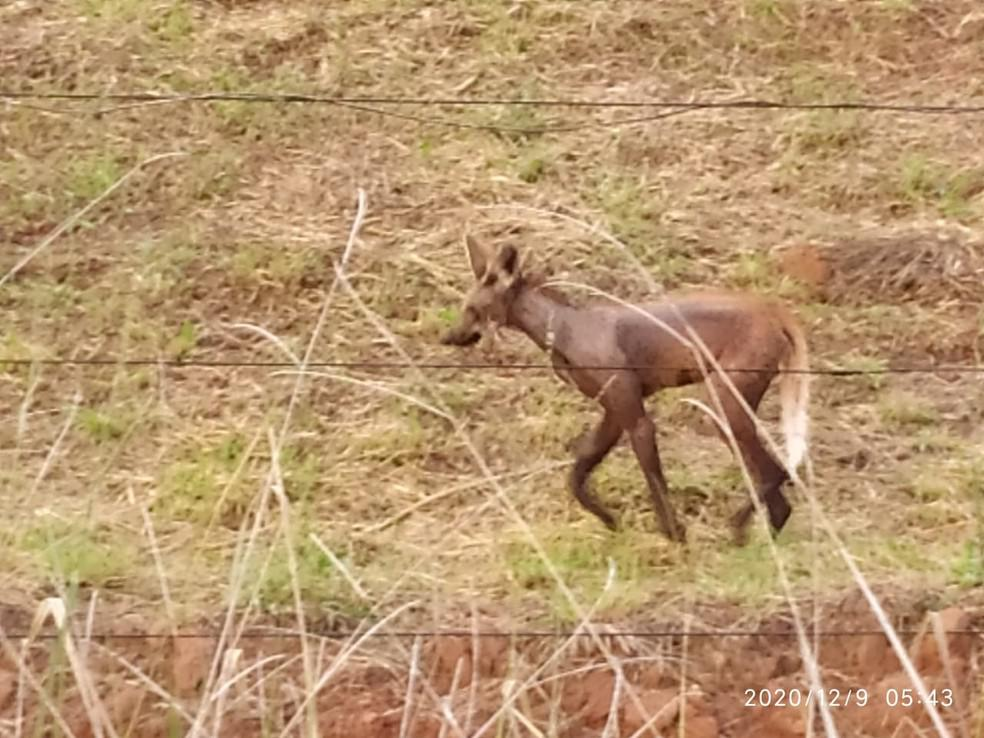LoboGuara: (430, 231, 821, 542)
